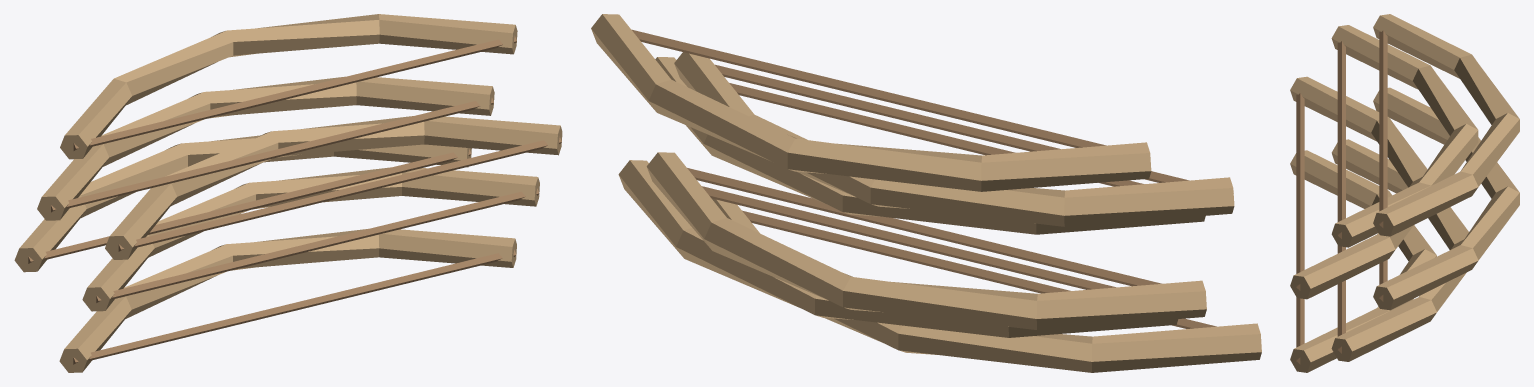
Rendered from item_099_composite_bow_l.glb.
3 renders of one model, left to right at view 1: azimuth 30°, elevation 25°; view 2: azimuth 150°, elevation 25°; view 3: azimuth 270°, elevation 25°, orthographic. The views are drawn at different scales.
Parts seen in each view (by area): view 1: item_099_composite_bow_l; view 2: item_099_composite_bow_l; view 3: item_099_composite_bow_l.
Part boxes in pixels (x1=…): item_099_composite_bow_l: x1=14, y1=14, x2=562, y2=372; item_099_composite_bow_l: x1=591, y1=14, x2=1261, y2=372; item_099_composite_bow_l: x1=1290, y1=14, x2=1519, y2=372.
Size of the model in its own units: 0.7756 by 0.29 by 0.3322.
